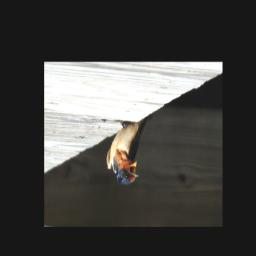Swallow: (106, 120, 145, 187)
